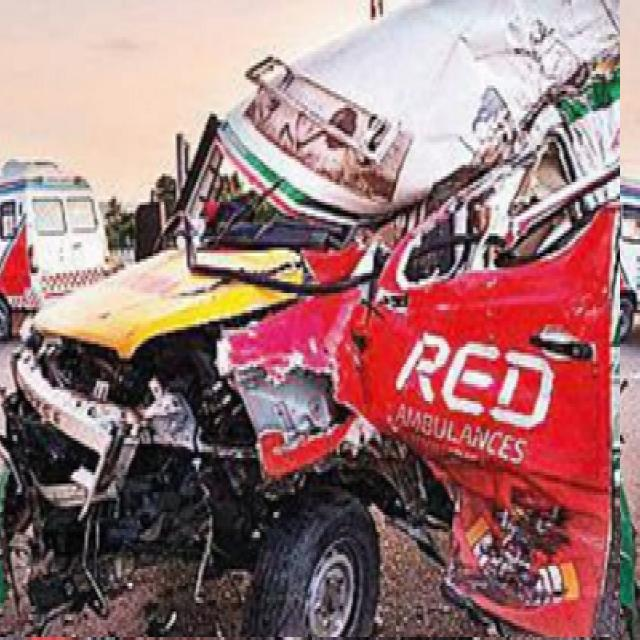accident: (0, 0, 620, 637)
emergency: (514, 160, 640, 339)
